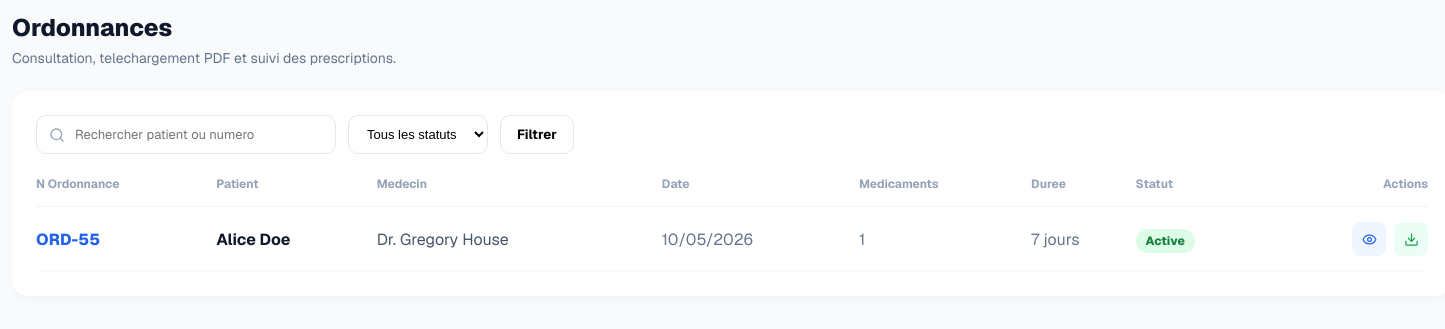
Test: dashboard records pages › should filter ordonnances when search text does not match
expect the text "ORD-55" is shown: met, box [36,206,216,272]
Type "unknown" into the field with placeholder "Rechercher patient ou numero" at (186, 134), box [36,115,336,154]
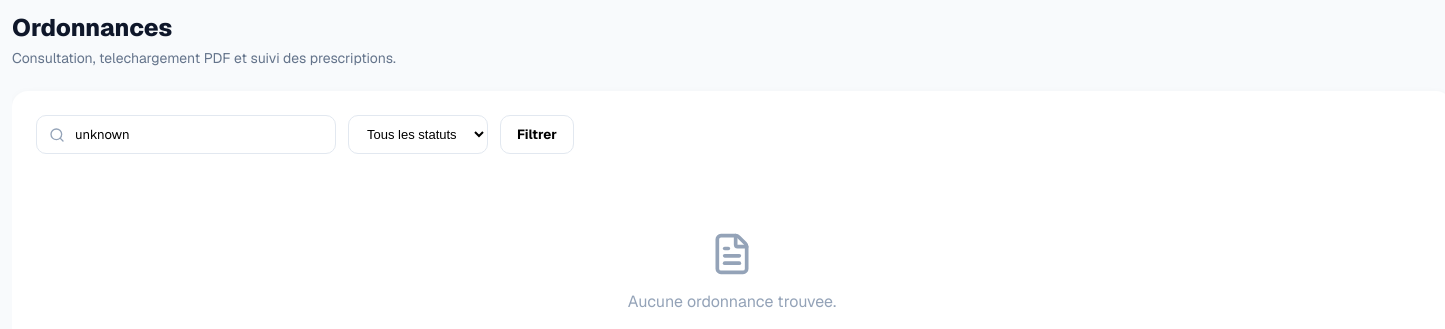
expect the text "Aucune ordonnance trouvee." is shown: met, box [628,291,836,312]
